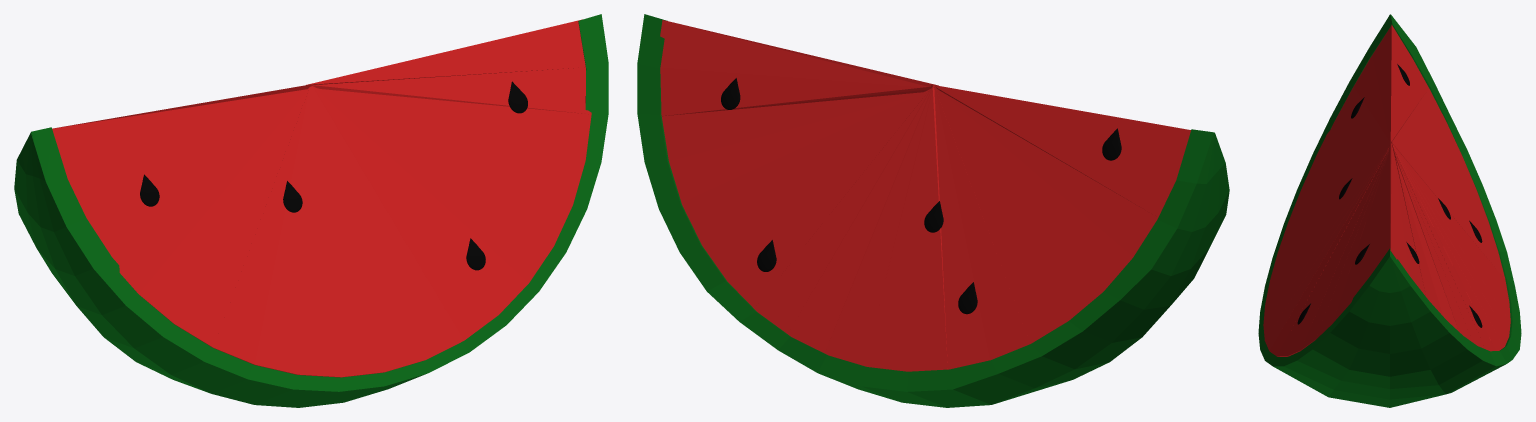
The model's file is watermelon slice.fbx.
The picture shows the model from 3 angles, left to right: view 1: azimuth 30°, elevation 25°; view 2: azimuth 150°, elevation 25°; view 3: azimuth 270°, elevation 25°; orthographic projection. The views are drawn at different scales.
Parts seen in each view (by area): view 1: pSphere4, pasted__pSphere2; view 2: pSphere4, pasted__pSphere2; view 3: pSphere4, pasted__pSphere2.
Boxes of the visible parts, left/top/right/bottom form: pSphere4: left=52, top=19, right=591, bottom=377; pasted__pSphere2: left=14, top=14, right=608, bottom=407; pSphere4: left=660, top=20, right=1190, bottom=371; pasted__pSphere2: left=637, top=14, right=1229, bottom=407; pSphere4: left=1263, top=25, right=1510, bottom=356; pasted__pSphere2: left=1258, top=14, right=1521, bottom=407.
Bounding box in the file's own units: 0.0174 × 0.00935 × 0.00858.
